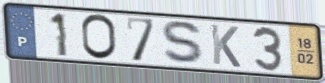1: (48, 12, 70, 58)
3: (251, 25, 284, 73)
7: (126, 16, 156, 64)
K: (208, 22, 243, 70)
O: (79, 13, 119, 62)
S: (160, 19, 209, 67)
